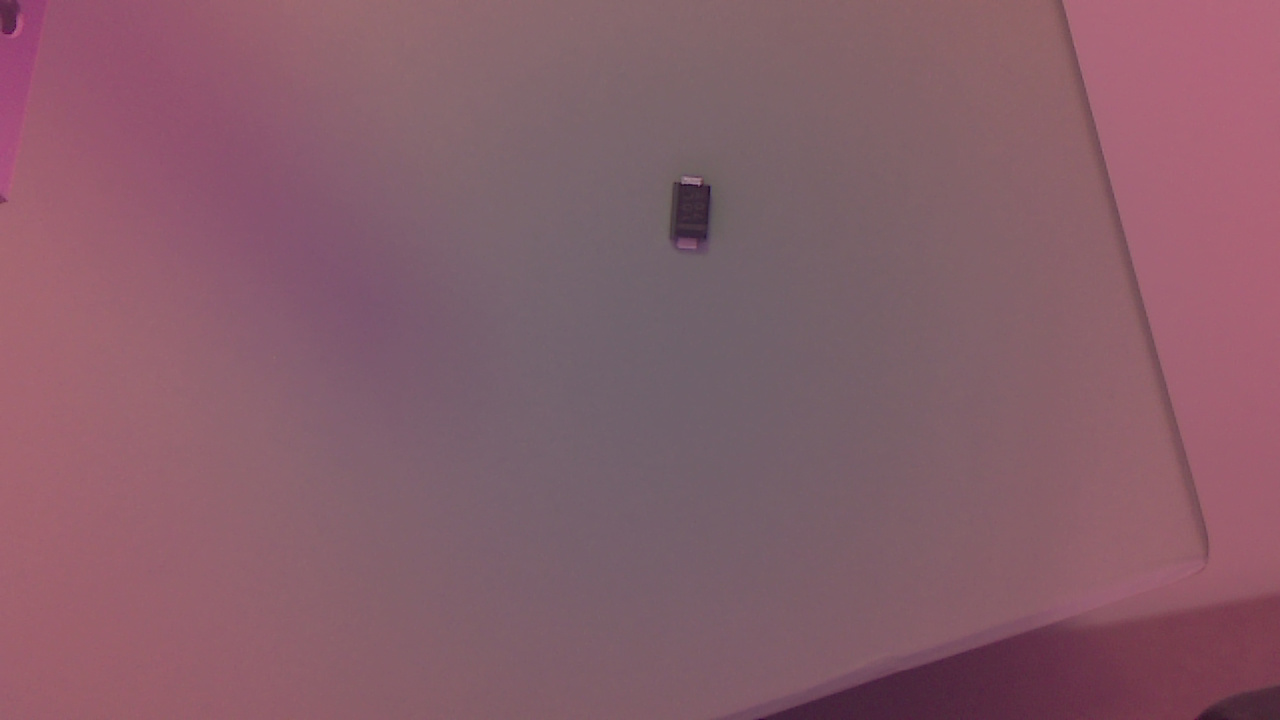Diode: (663, 175, 727, 260)
